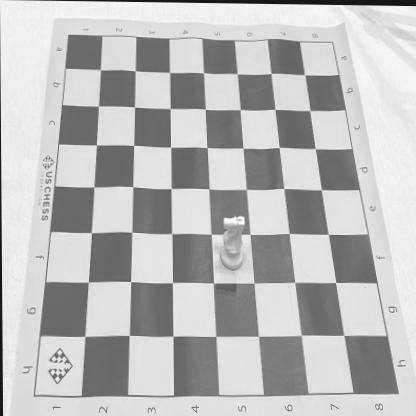white-knight: (219, 214, 245, 270)
